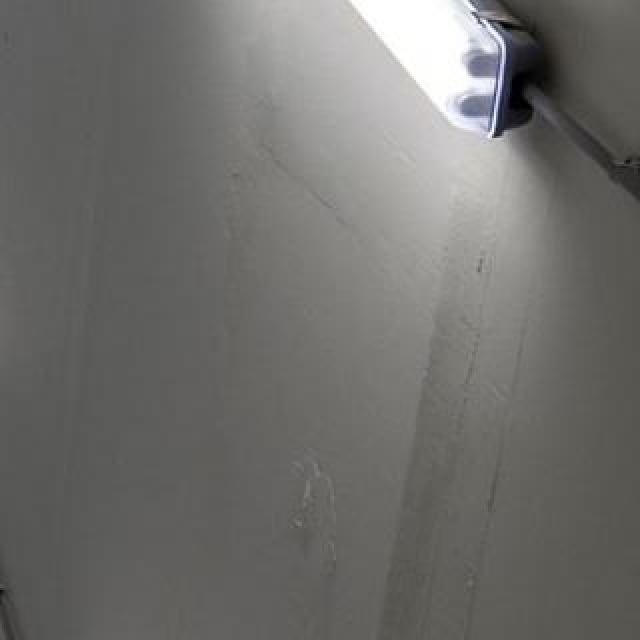fluorescent tube: (118, 0, 556, 152)
